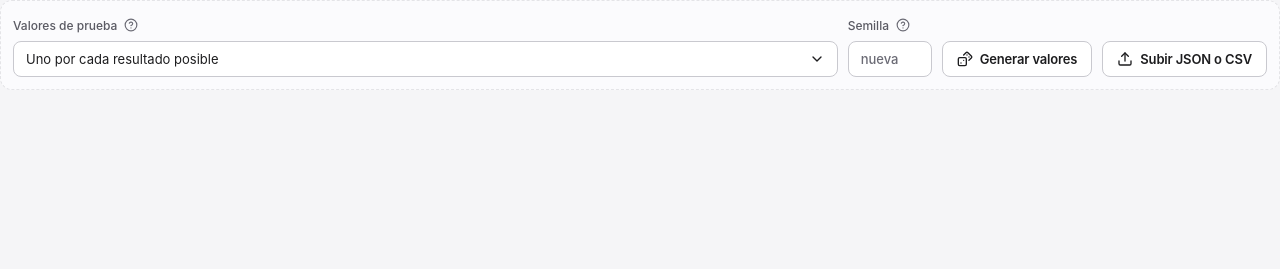
Test: SimulatorSampleBar › pide los valores al backend y carga el primer caso en el formulario
The width and height of the screenshot is (1280, 269).
Click the dropdown named "Valores de prueba" at (122, 59), box [13,41,838,77]
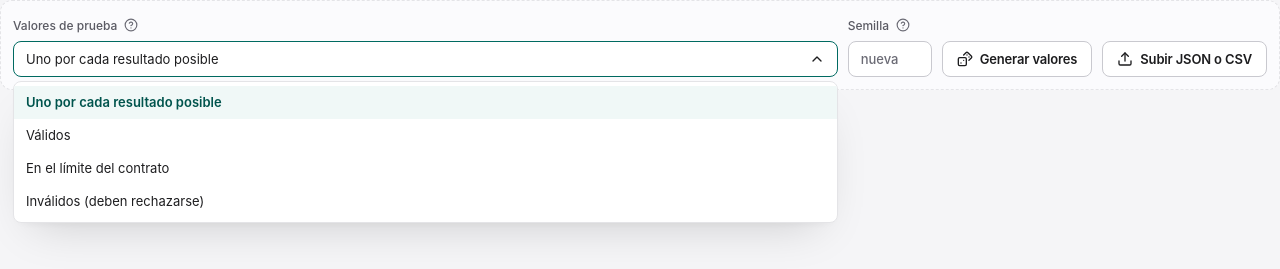
Click the option "Válidos" at (48, 135), box [26,127,70,143]
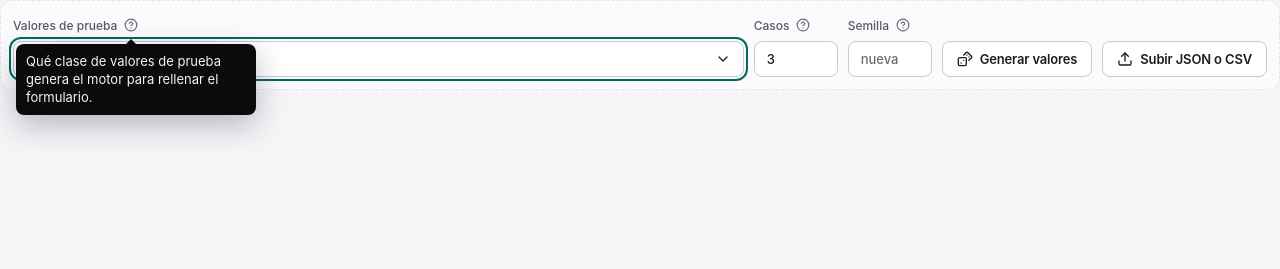
Click the button "Generar valores" at (1017, 59), box [942,41,1092,77]
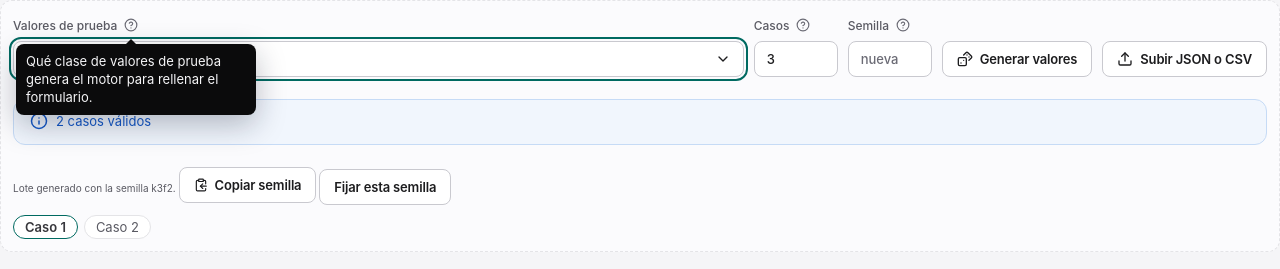
Expected: the text "semilla k3f2" is shown, [13,166,451,204]
